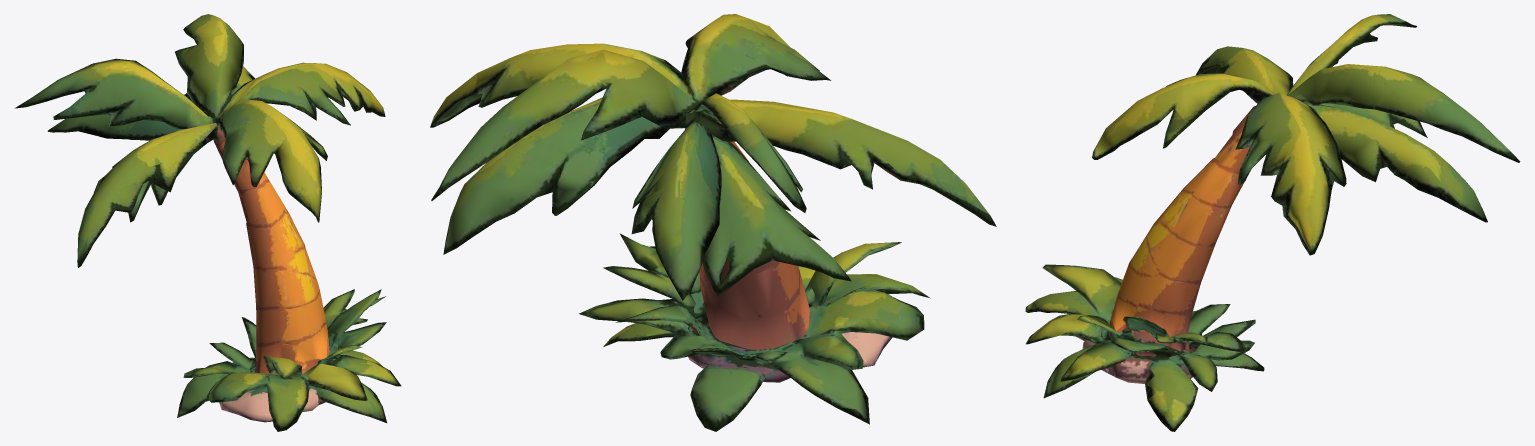
The model's file is palma_bassa.glb.
3 renders of one model, left to right at view 1: azimuth 30°, elevation 25°; view 2: azimuth 150°, elevation 25°; view 3: azimuth 270°, elevation 25°, orthographic. The views are drawn at different scales.
Visible parts, largest first — view 1: geometry_0; view 2: geometry_0; view 3: geometry_0.
Boxes of the visible parts, box(x1,y1,x2,y2) form: geometry_0: box(14, 14, 401, 431); geometry_0: box(430, 14, 996, 431); geometry_0: box(1025, 14, 1520, 431).
Size of the model in its own units: 6.9 by 5.5 by 7.44.
1 material, 1 textured.
